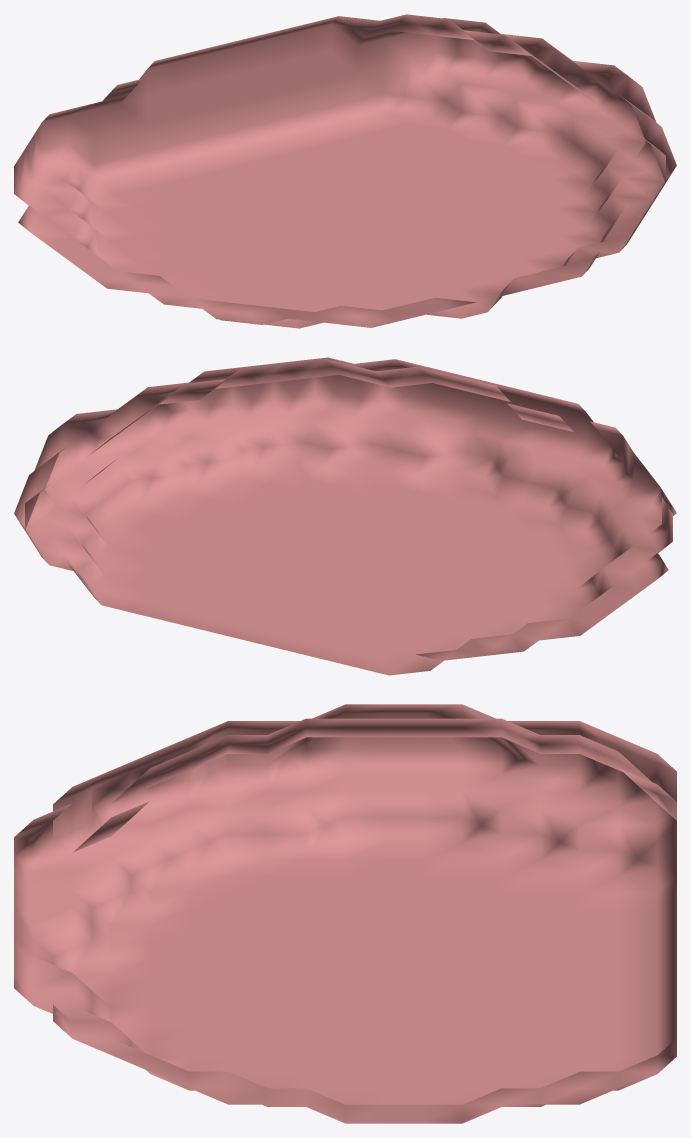
Rendered from 199540_occ.glb.
3 renders of one model, top to bottom at view 1: azimuth 30°, elevation 25°; view 2: azimuth 150°, elevation 25°; view 3: azimuth 270°, elevation 25°, orthographic. The views are drawn at different scales.
Parts seen in each view (by area): view 1: world; view 2: world; view 3: world.
Part boxes in pixels (<box>): world: <box>14,14,676,328</box>; world: <box>14,357,676,675</box>; world: <box>14,704,676,1123</box>.
Size of the model in its own units: 2.2 by 0.4 by 1.7.
